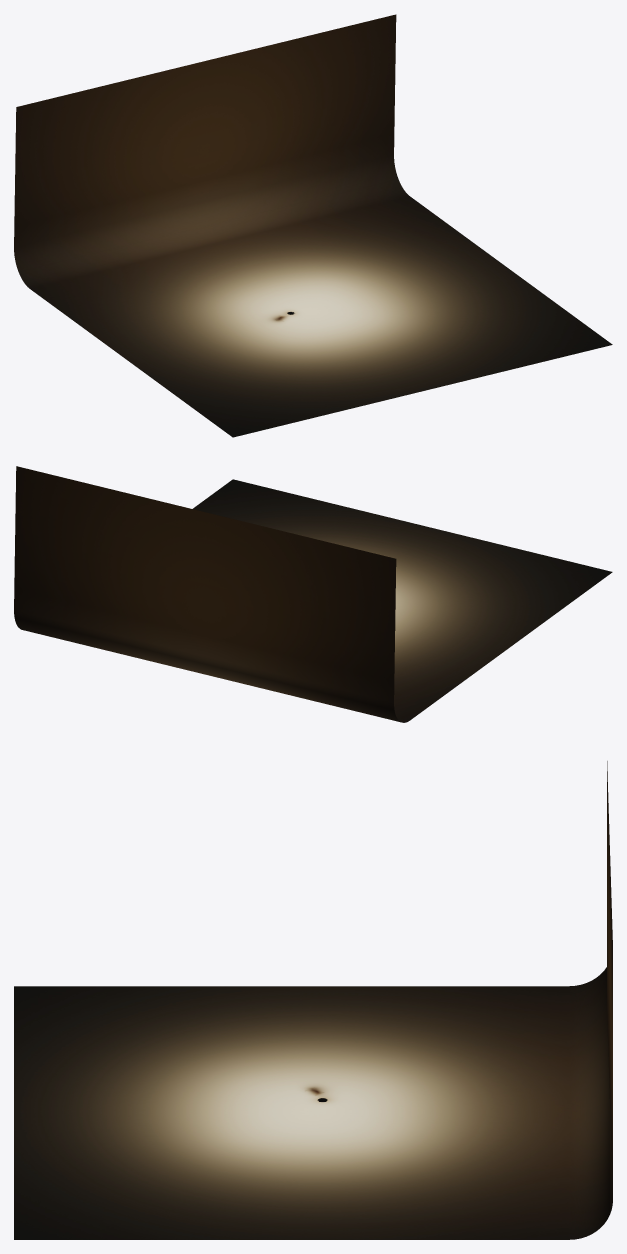
The model's file is ground_b.glb.
3 renders of one model, top to bottom at view 1: azimuth 30°, elevation 25°; view 2: azimuth 150°, elevation 25°; view 3: azimuth 270°, elevation 25°, orthographic. The views are drawn at different scales.
Visible parts, largest first — view 1: ground; view 2: ground; view 3: ground.
Boxes of the visible parts, x1,y1,x2,y2 form: ground: (14, 14, 612, 437); ground: (14, 466, 612, 722); ground: (14, 761, 612, 1239).
Bounding box in the file's own units: 40.75 × 17.61 × 40.66.
1 material, 1 textured.
